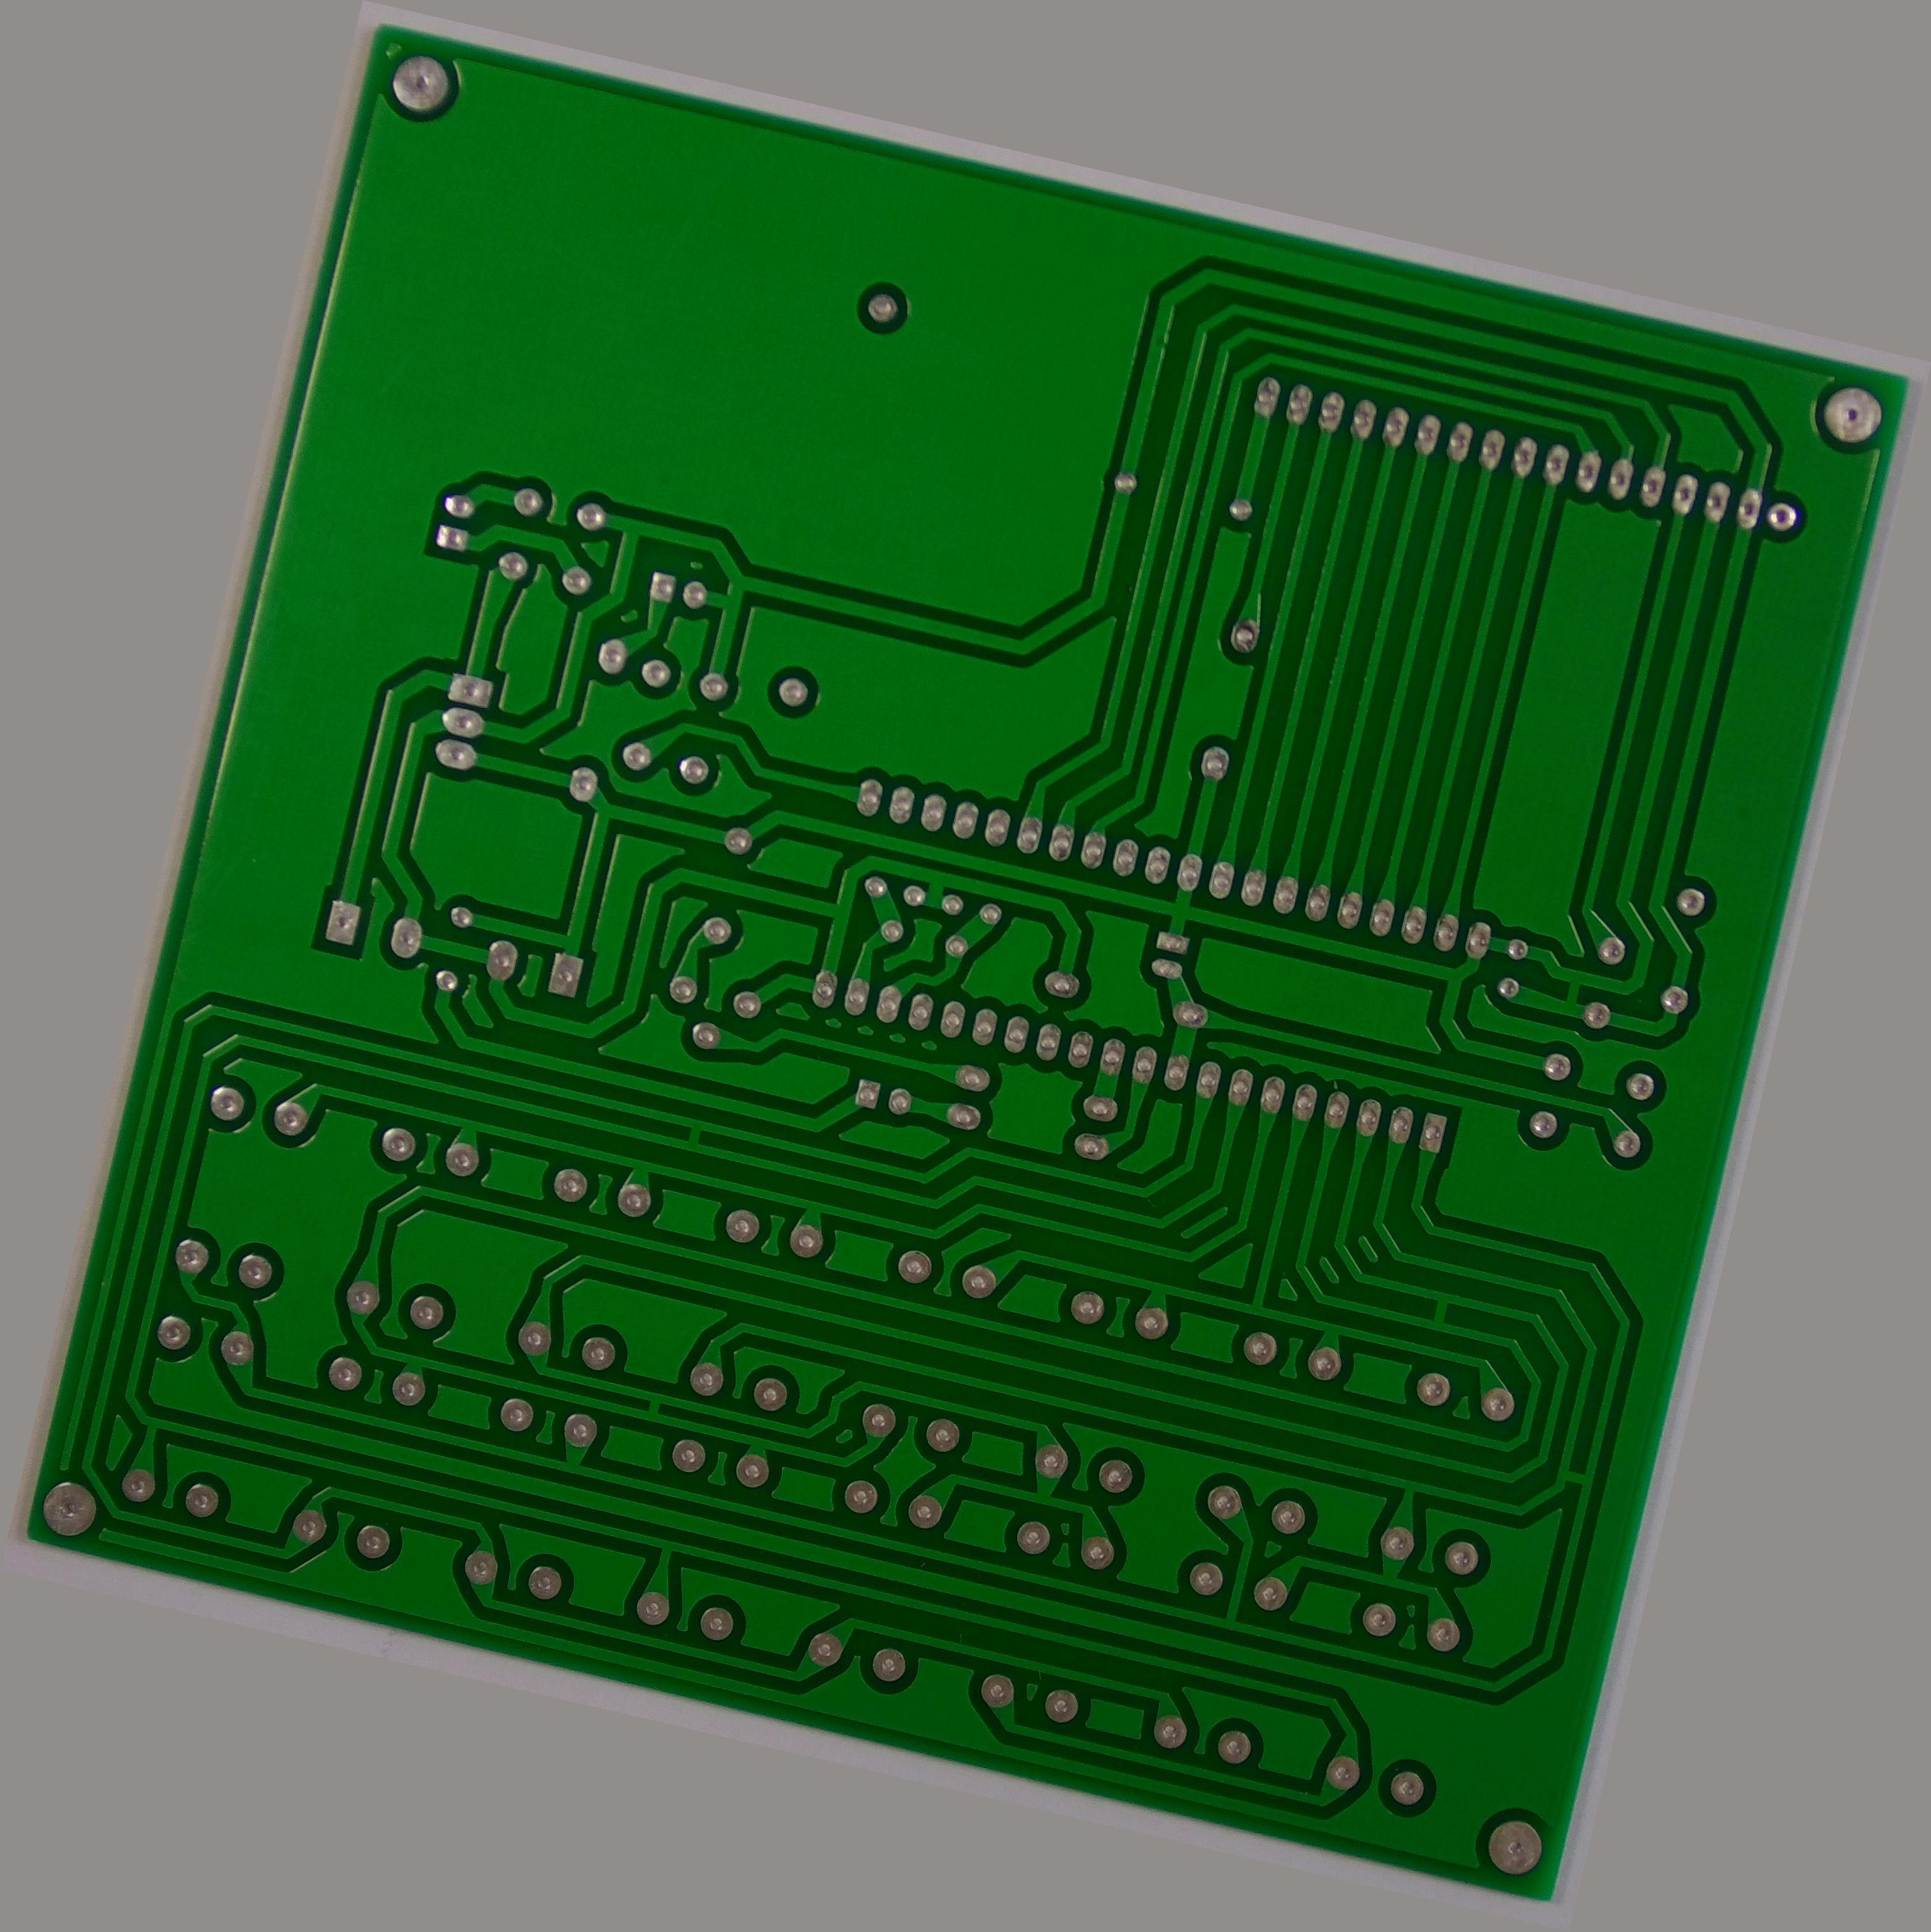short: (1544, 957, 1597, 1019), (1413, 1283, 1462, 1343), (633, 1384, 670, 1435), (1549, 1456, 1599, 1493), (675, 1111, 716, 1154)
